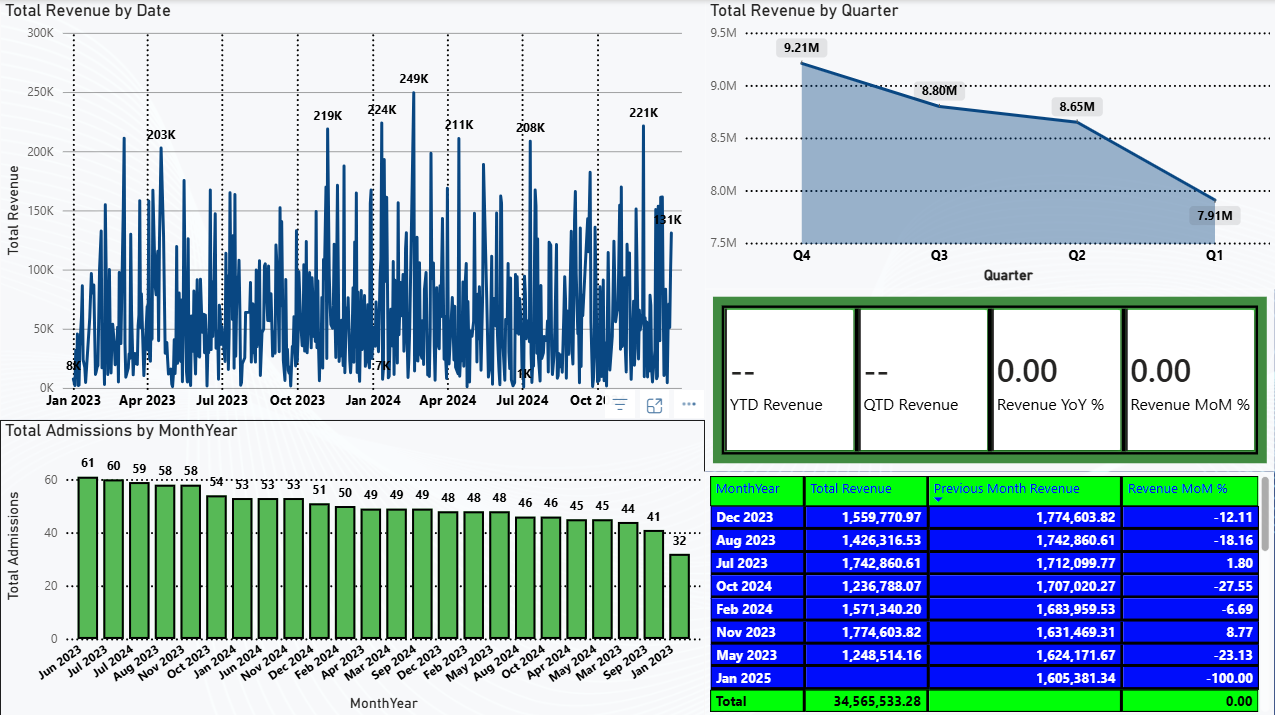

The page's visual inventory and layout, read from the dashboard file:
{"tool":"powerbi","page":{"name":"Page 5","canvas":[1280,720],"ordinal":4},"visuals":[{"type":"lineChart","fields":{"Y":["DateTable.Total Revenue"],"Category":["DateTable.Date"]},"box":[0,0,708.2,421.7],"z":0},{"type":"clusteredColumnChart","fields":{"Category":["DateTable.MonthYear"],"Y":["DateTable.Total Admissions"]},"box":[0,421.7,708.2,297.8],"z":1000},{"type":"areaChart","fields":{"Category":["DateTable.Quarter"],"Y":["DateTable.Total Revenue"]},"box":[707.5,0,572.5,290],"z":2000},{"type":"cardVisual","fields":{"Data":["DateTable.YTD Revenue","DateTable.QTD Revenue","DateTable.Revenue YoY %","DateTable.Revenue MoM %"]},"box":[707.8,289.9,572.2,183.2],"z":3000},{"type":"tableEx","fields":{"Values":["DateTable.MonthYear","DateTable.Total Revenue","DateTable.Previous Month Revenue","DateTable.Revenue MoM %"]},"box":[706.9,473,573.1,246.5],"z":4000}]}

Visuals, with their boxes in screenshot pixels (x1, y1, x2, y2), scaled from the page's 1280x720 canvas onto the 1275x715 screenshot:
lineChart - DateTable.Total Revenue x DateTable.Date: <bbox>0, 0, 705, 419</bbox>
clusteredColumnChart - DateTable.MonthYear x DateTable.Total Admissions: <bbox>0, 419, 705, 714</bbox>
areaChart - DateTable.Quarter x DateTable.Total Revenue: <bbox>705, 0, 1274, 288</bbox>
cardVisual - DateTable.YTD Revenue x DateTable.QTD Revenue: <bbox>705, 288, 1274, 470</bbox>
tableEx - DateTable.MonthYear x DateTable.Total Revenue: <bbox>704, 470, 1274, 714</bbox>
